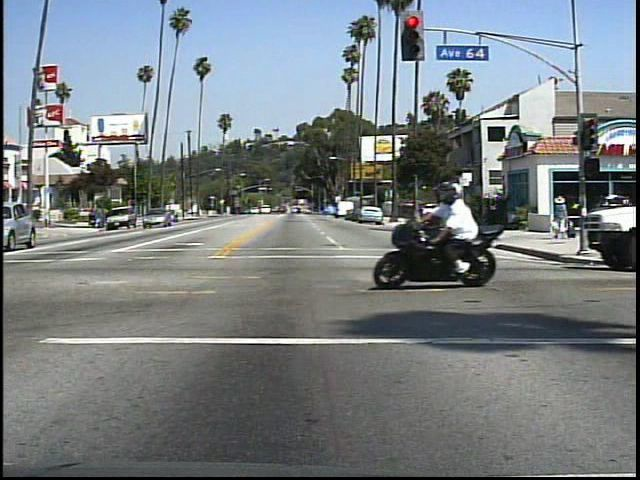person: (428, 178, 494, 283), (550, 192, 575, 241)
